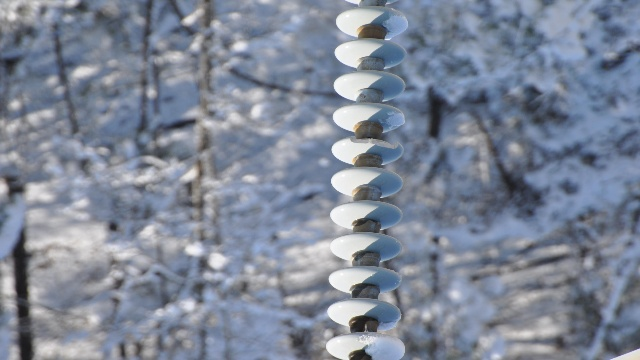broken_local: (348, 134, 402, 150)
insulator_unspecified: (325, 1, 409, 358)
